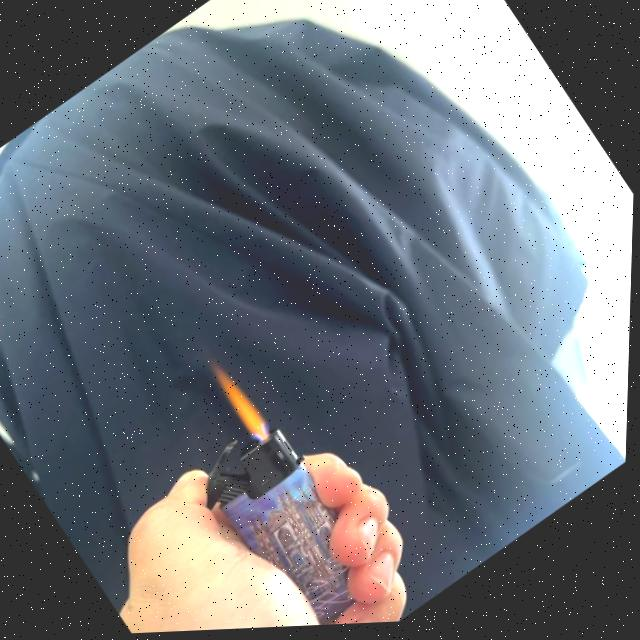Fire: (206, 357, 276, 444)
